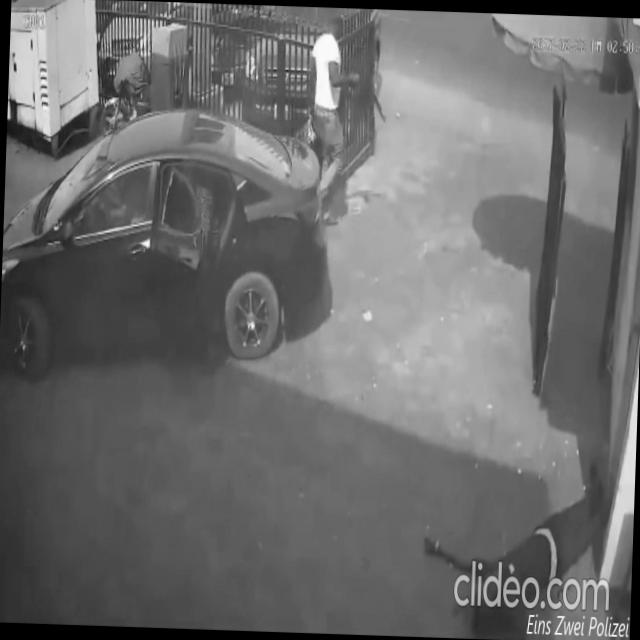gun: (352, 65, 390, 128)
person: (419, 449, 610, 640)
person with a gun: (301, 14, 391, 229)
